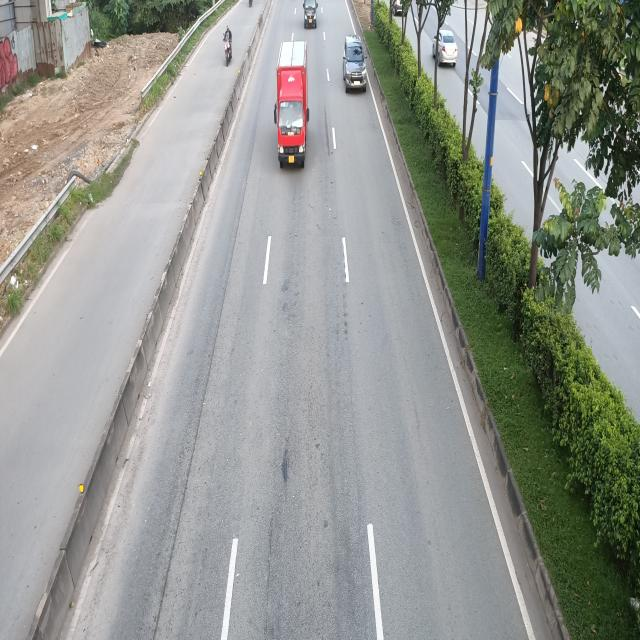car: (343, 37, 368, 94)
truck: (273, 39, 310, 167)
